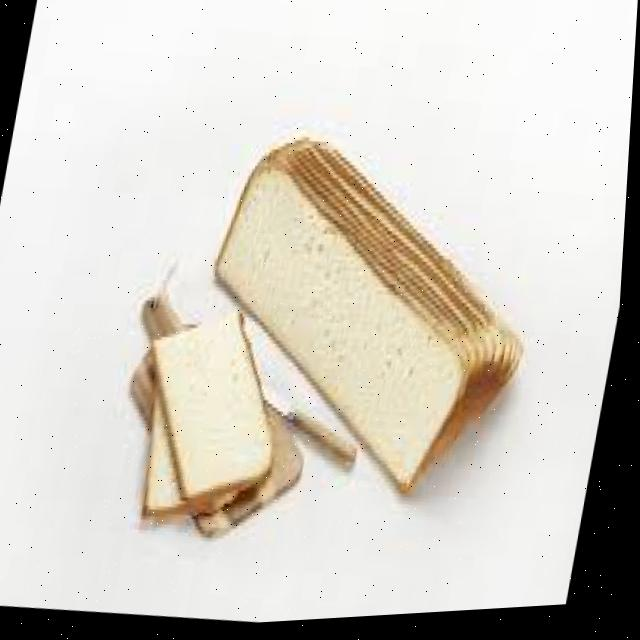Bread: (219, 141, 526, 496), (157, 315, 276, 502), (155, 396, 193, 516)
